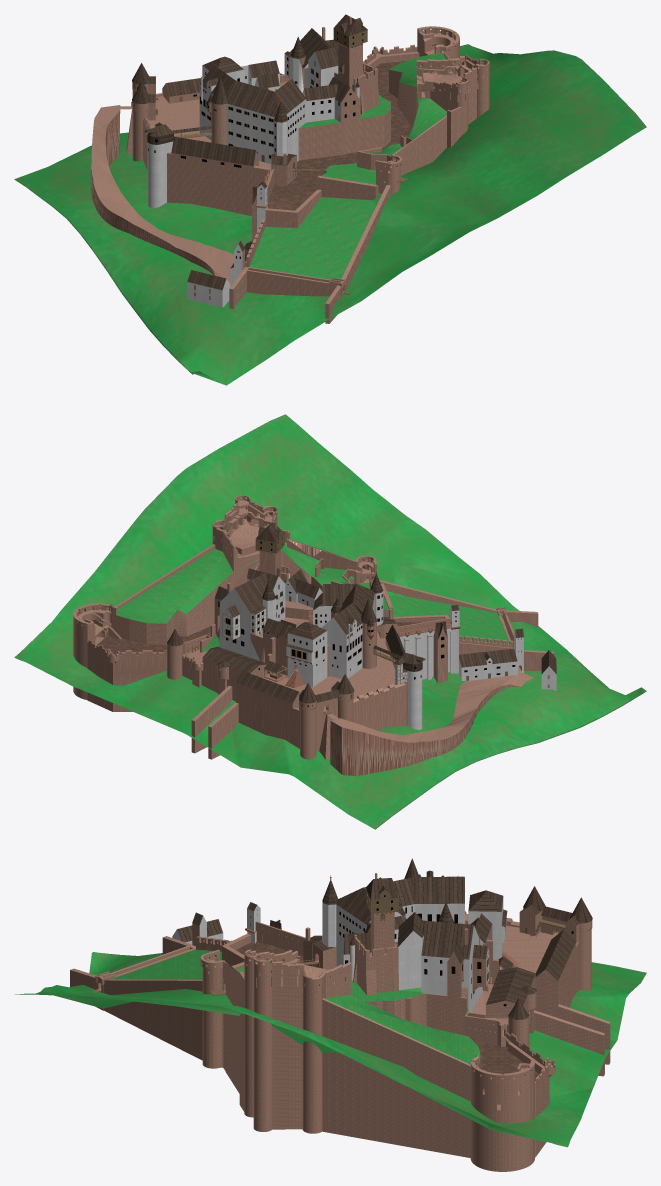
The model's file is CastlePlaceholder.fbx.
3 views of the same model, one above another, from view 1: azimuth 30°, elevation 25°; view 2: azimuth 150°, elevation 25°; view 3: azimuth 270°, elevation 25° (orthographic). The views are drawn at different scales.
Parts seen in each view (by area): view 1: Burg, Geleande; view 2: Burg, Geleande; view 3: Burg, Geleande.
Boxes of the visible parts, left/top/right/bottom form: Burg: left=91, top=14, right=489, bottom=323; Geleande: left=14, top=44, right=646, bottom=385; Burg: left=73, top=495, right=556, bottom=775; Geleande: left=14, top=414, right=646, bottom=829; Burg: left=70, top=858, right=610, bottom=1171; Geleande: left=15, top=952, right=646, bottom=1147.
Size of the model in its own units: 18656 by 8177 by 18188.
